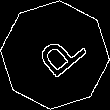P_SW: (23, 25, 87, 85)
